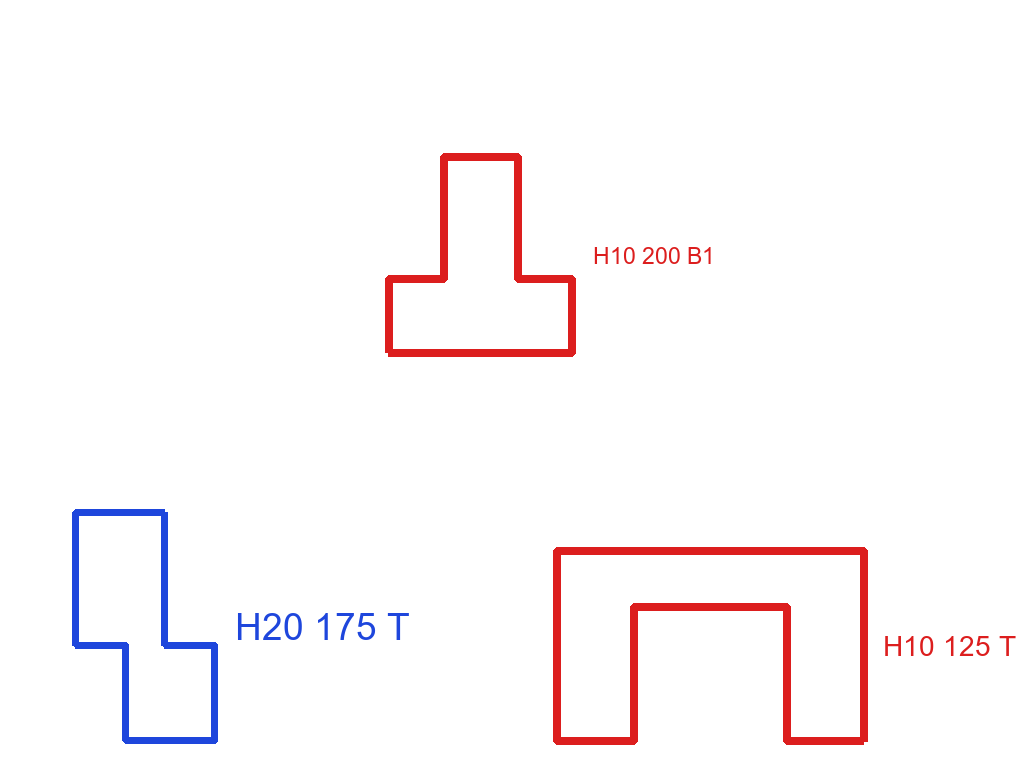shape: (551, 545, 869, 747), (382, 152, 579, 359), (70, 507, 220, 746)
text: (233, 611, 412, 642), (881, 634, 1018, 658), (591, 245, 717, 266)
